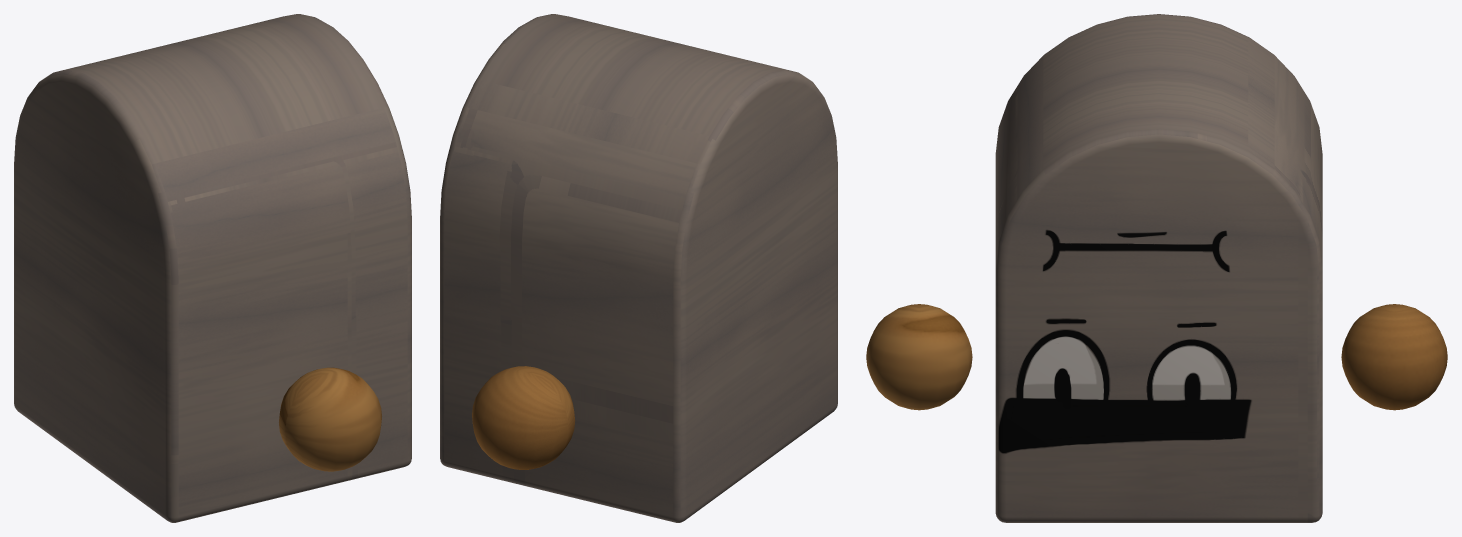
Rendered from crittersmoothfbx.fbx.
3 renders of one model, left to right at view 1: azimuth 30°, elevation 25°; view 2: azimuth 150°, elevation 25°; view 3: azimuth 270°, elevation 25°, orthographic. The views are drawn at different scales.
Visible parts, largest first — view 1: crithnd1; view 2: crithnd1; view 3: crithnd1.
Boxes of the visible parts, x1,y1,x2,y2 form: crithnd1: (14, 14, 411, 522); crithnd1: (440, 14, 837, 522); crithnd1: (866, 14, 1447, 522).
Size of the model in its own units: 151 by 227 by 304.
